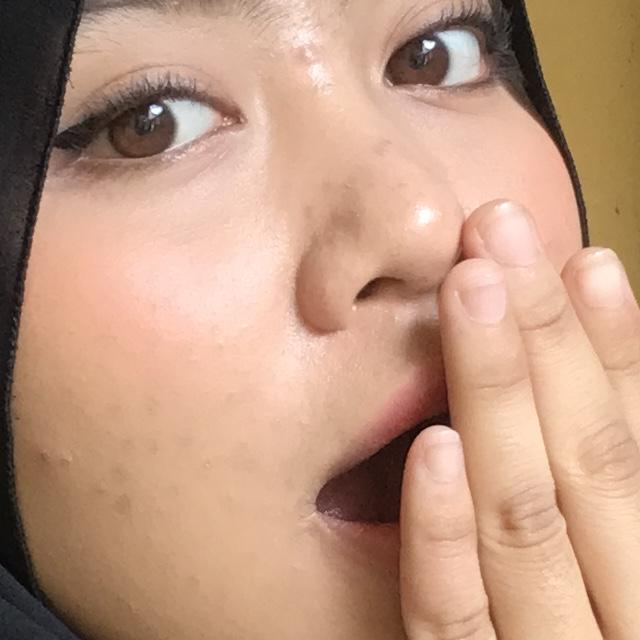ngantuk: (230, 216, 640, 640)
